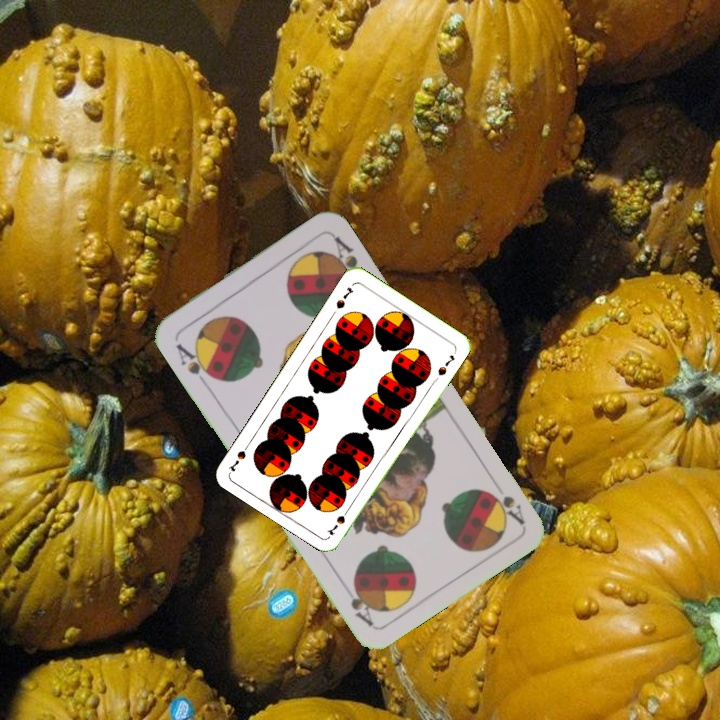S7: (324, 503, 353, 538), (332, 283, 356, 311)
SA: (172, 339, 218, 388), (483, 485, 527, 527)
